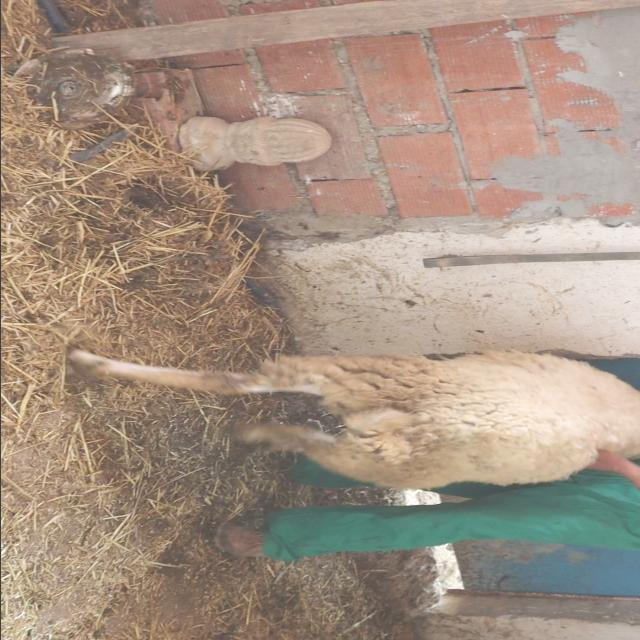Score_4: (69, 349, 640, 488)
